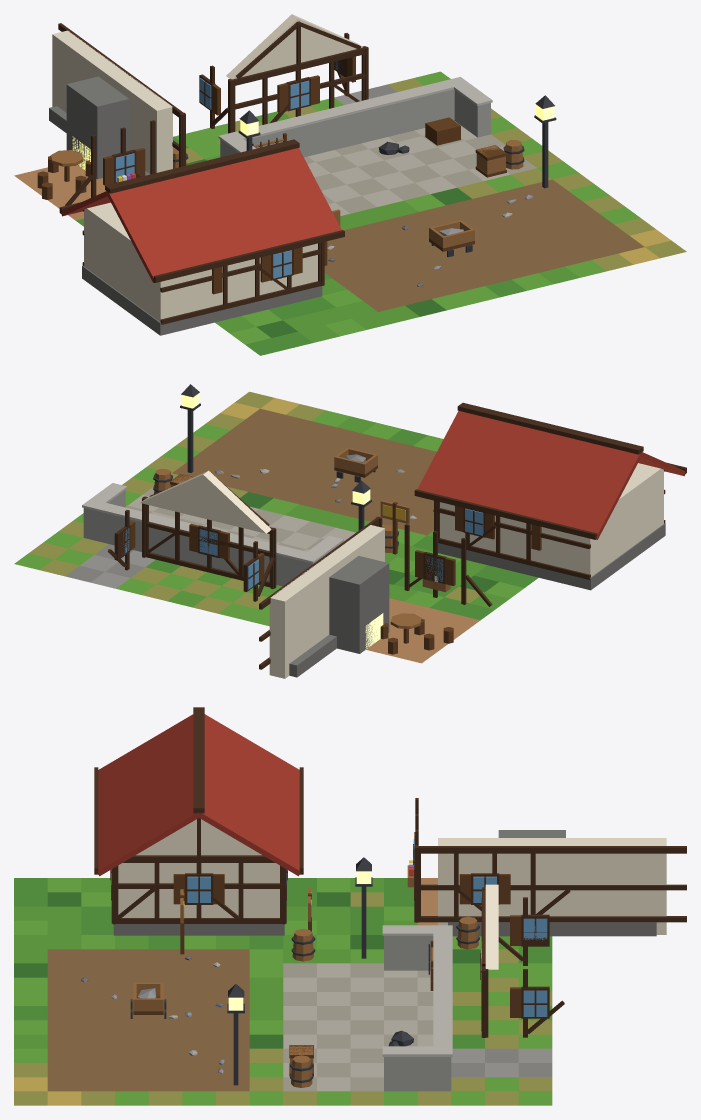
The model's file is chunk_7_6.glb.
3 views of the same model, one above another, from view 1: azimuth 30°, elevation 25°; view 2: azimuth 150°, elevation 25°; view 3: azimuth 270°, elevation 25° (orthographic). The views are drawn at different scales.
Parts seen in each view (by area): view 1: chunk_7_6; view 2: chunk_7_6; view 3: chunk_7_6.
Boxes of the visible parts, x1,y1,x2,y2 form: chunk_7_6: [14, 14, 686, 355]; chunk_7_6: [14, 384, 686, 678]; chunk_7_6: [14, 707, 686, 1105].
Bounding box in the file's own units: 18.55 × 4.75 × 20.
